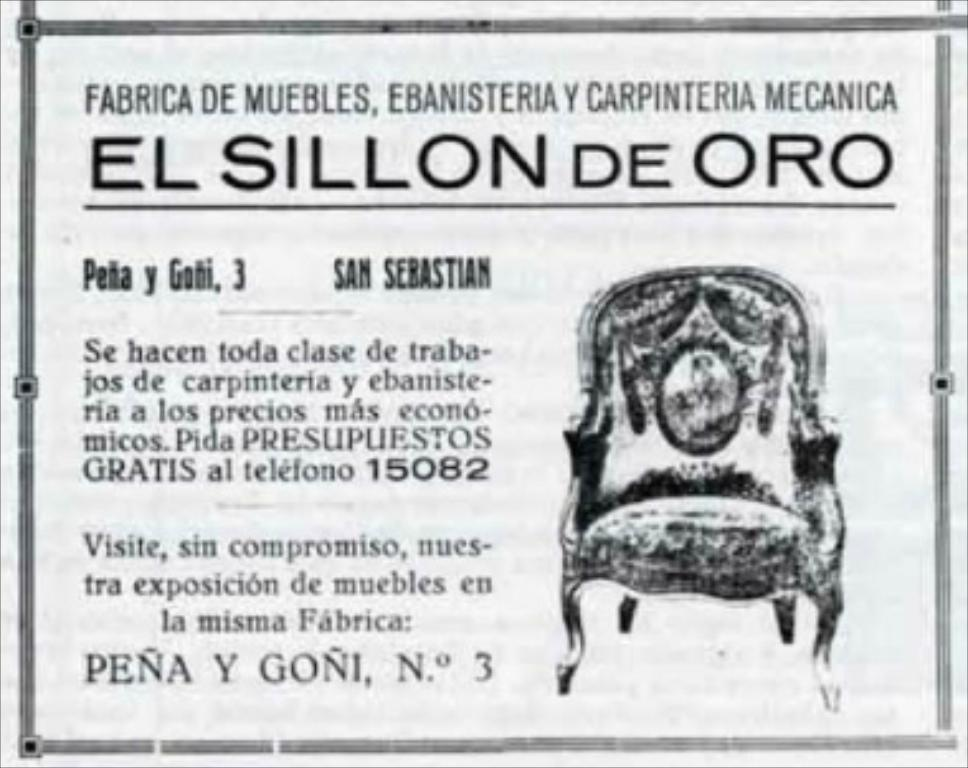Chair: (537, 251, 862, 720)
